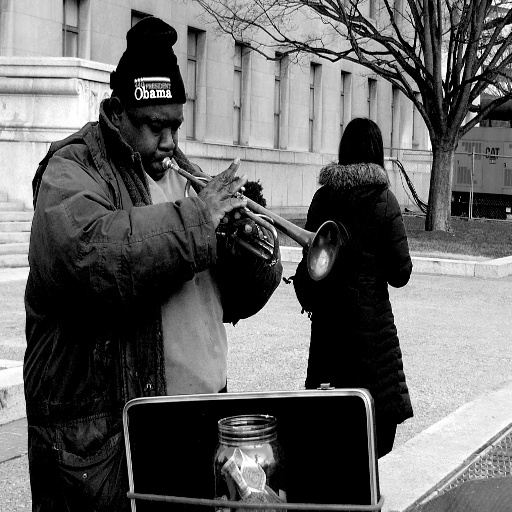hand: (191, 162, 239, 231), (219, 205, 242, 226)
